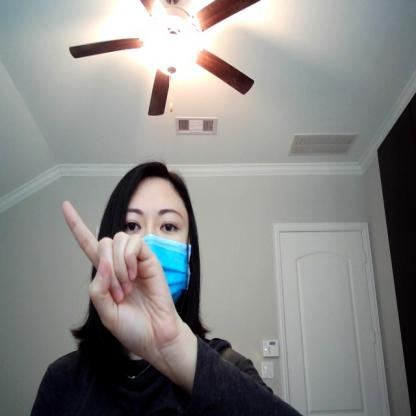one: (56, 198, 180, 355)
